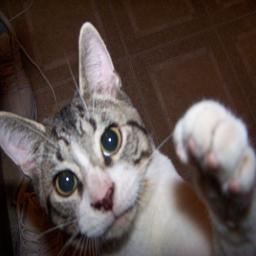catnose: (90, 183, 120, 217)
